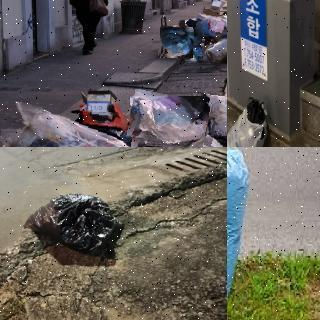Garbage: (22, 187, 129, 258), (0, 104, 146, 147), (128, 92, 210, 147), (227, 147, 254, 314), (227, 97, 267, 147), (198, 91, 227, 147), (159, 26, 194, 59), (172, 131, 227, 147), (195, 14, 227, 38), (201, 34, 227, 62)
